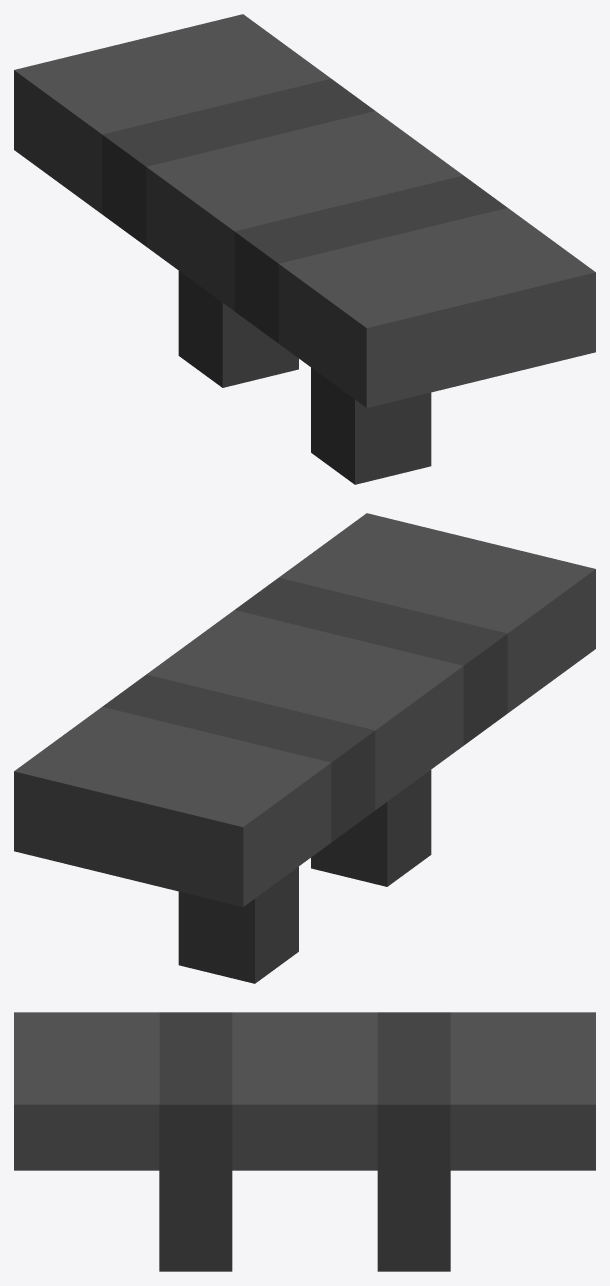
File: bench2.obj
3 views of the same model, one above another, from view 1: azimuth 30°, elevation 25°; view 2: azimuth 150°, elevation 25°; view 3: azimuth 270°, elevation 25° (orthographic). The views are drawn at different scales.
Bounding box in the file's own units: 3 × 3 × 8.
1 material, 1 textured.
